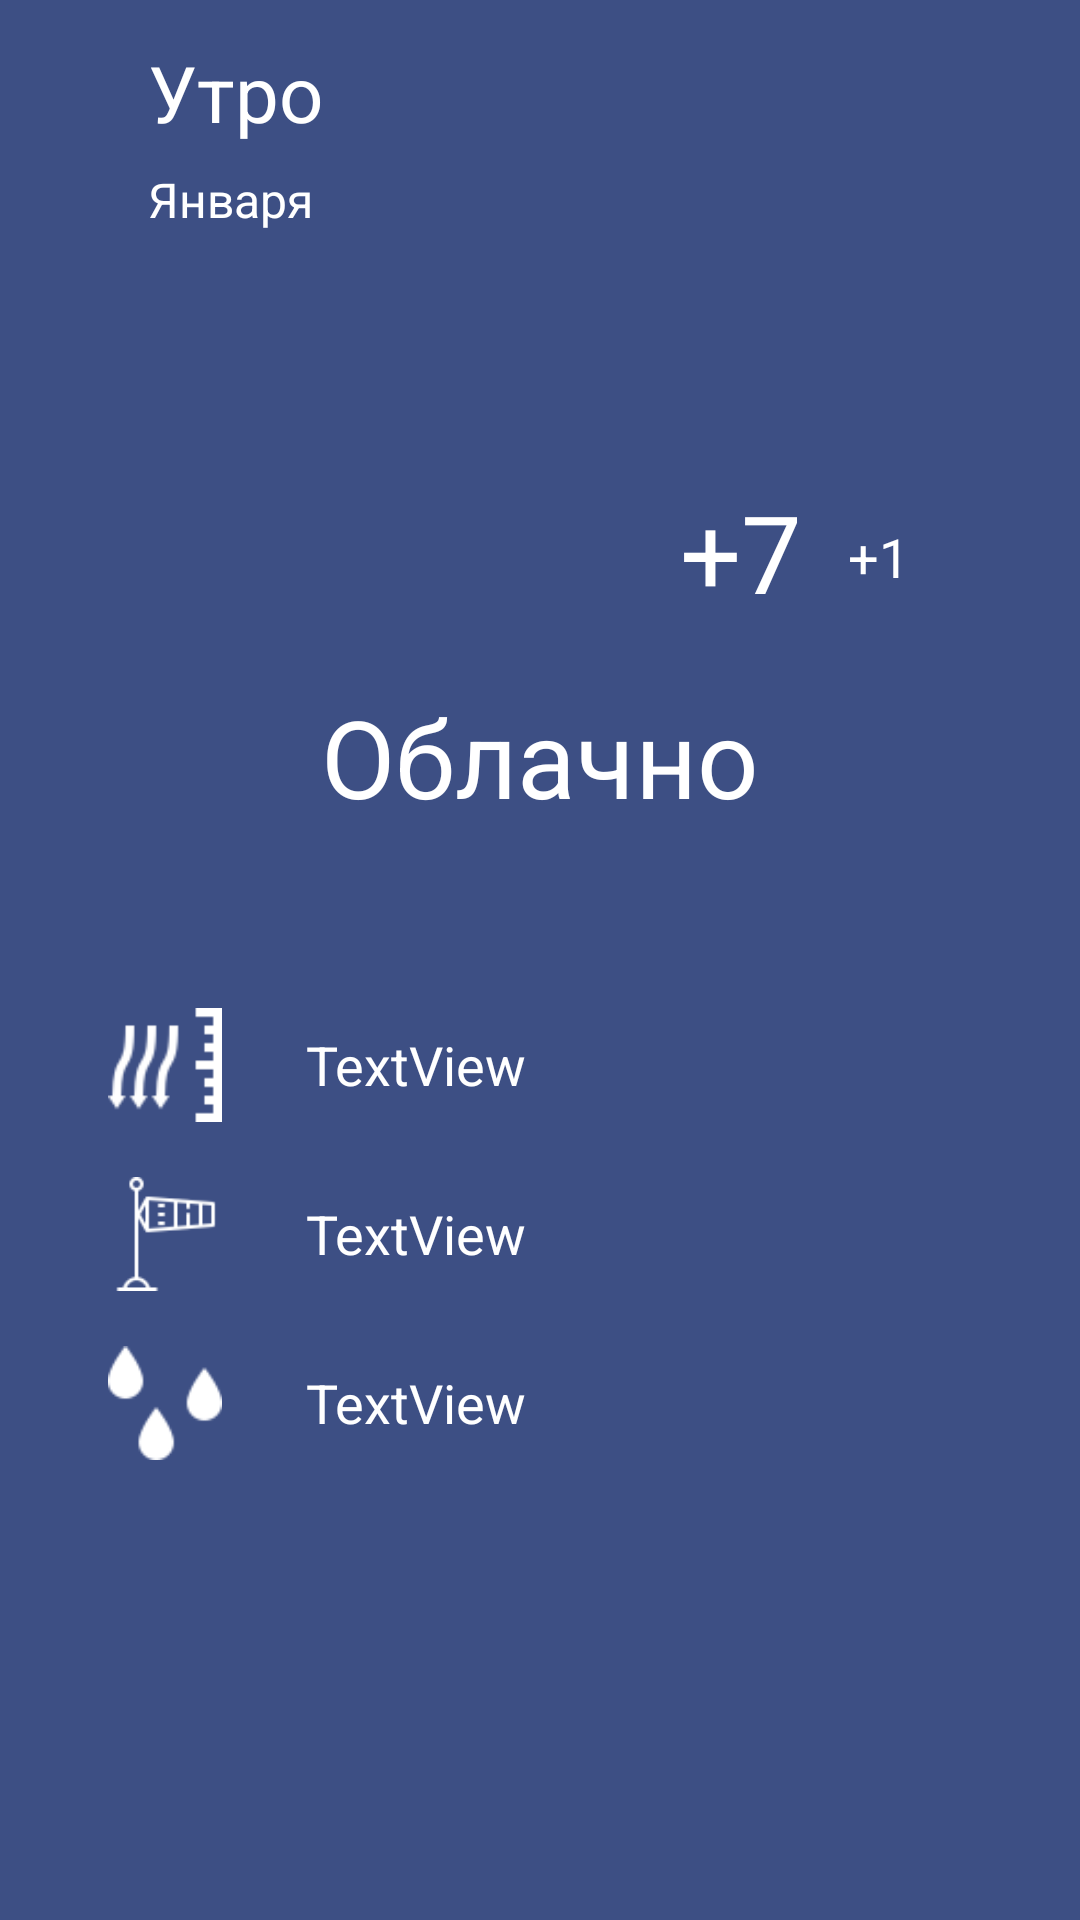

Screen size 1080px x 1920px. Icon name, then its box in pixels as (x1, y1, x2, y2):
pressure: (108, 1008, 222, 1122)
relwet: (108, 1346, 222, 1460)
wind: (116, 1177, 216, 1291)
